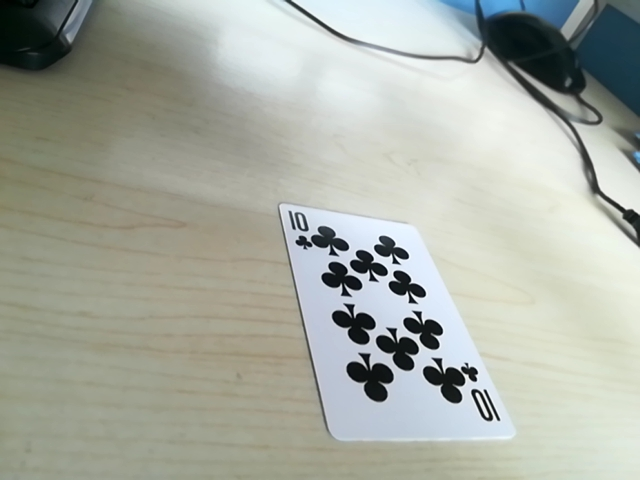mh 10: (455, 369, 496, 429), (283, 208, 328, 257)
